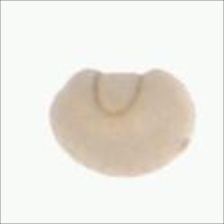L5: (88, 66, 150, 116), (92, 160, 161, 184)
L6: (45, 66, 202, 180)
